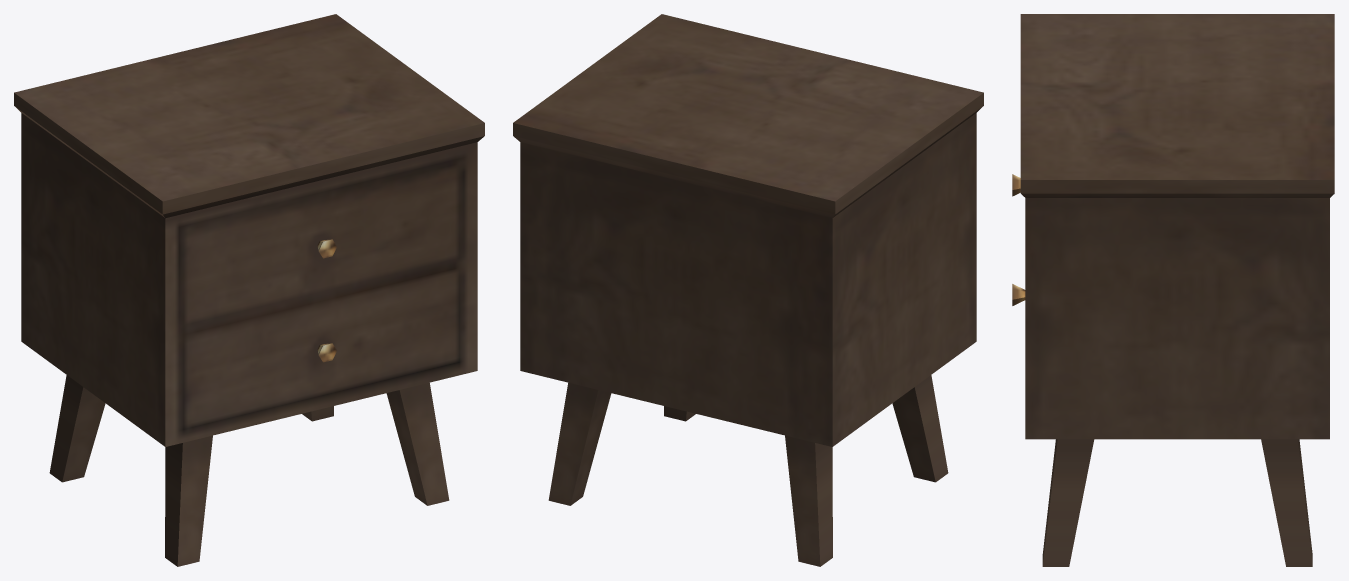
File: [PSX] Nightstand Model.fbx
3 renders of one model, left to right at view 1: azimuth 30°, elevation 25°; view 2: azimuth 150°, elevation 25°; view 3: azimuth 270°, elevation 25°, orthographic. The views are drawn at different scales.
Parts seen in each view (by area): view 1: Nightstand; view 2: Nightstand; view 3: Nightstand.
Boxes of the visible parts, box(x1,y1,x2,y2) form: Nightstand: box(14, 14, 484, 566); Nightstand: box(513, 14, 983, 566); Nightstand: box(1012, 14, 1334, 566).
Bounding box in the file's own units: 51.57 × 58 × 42.36.
